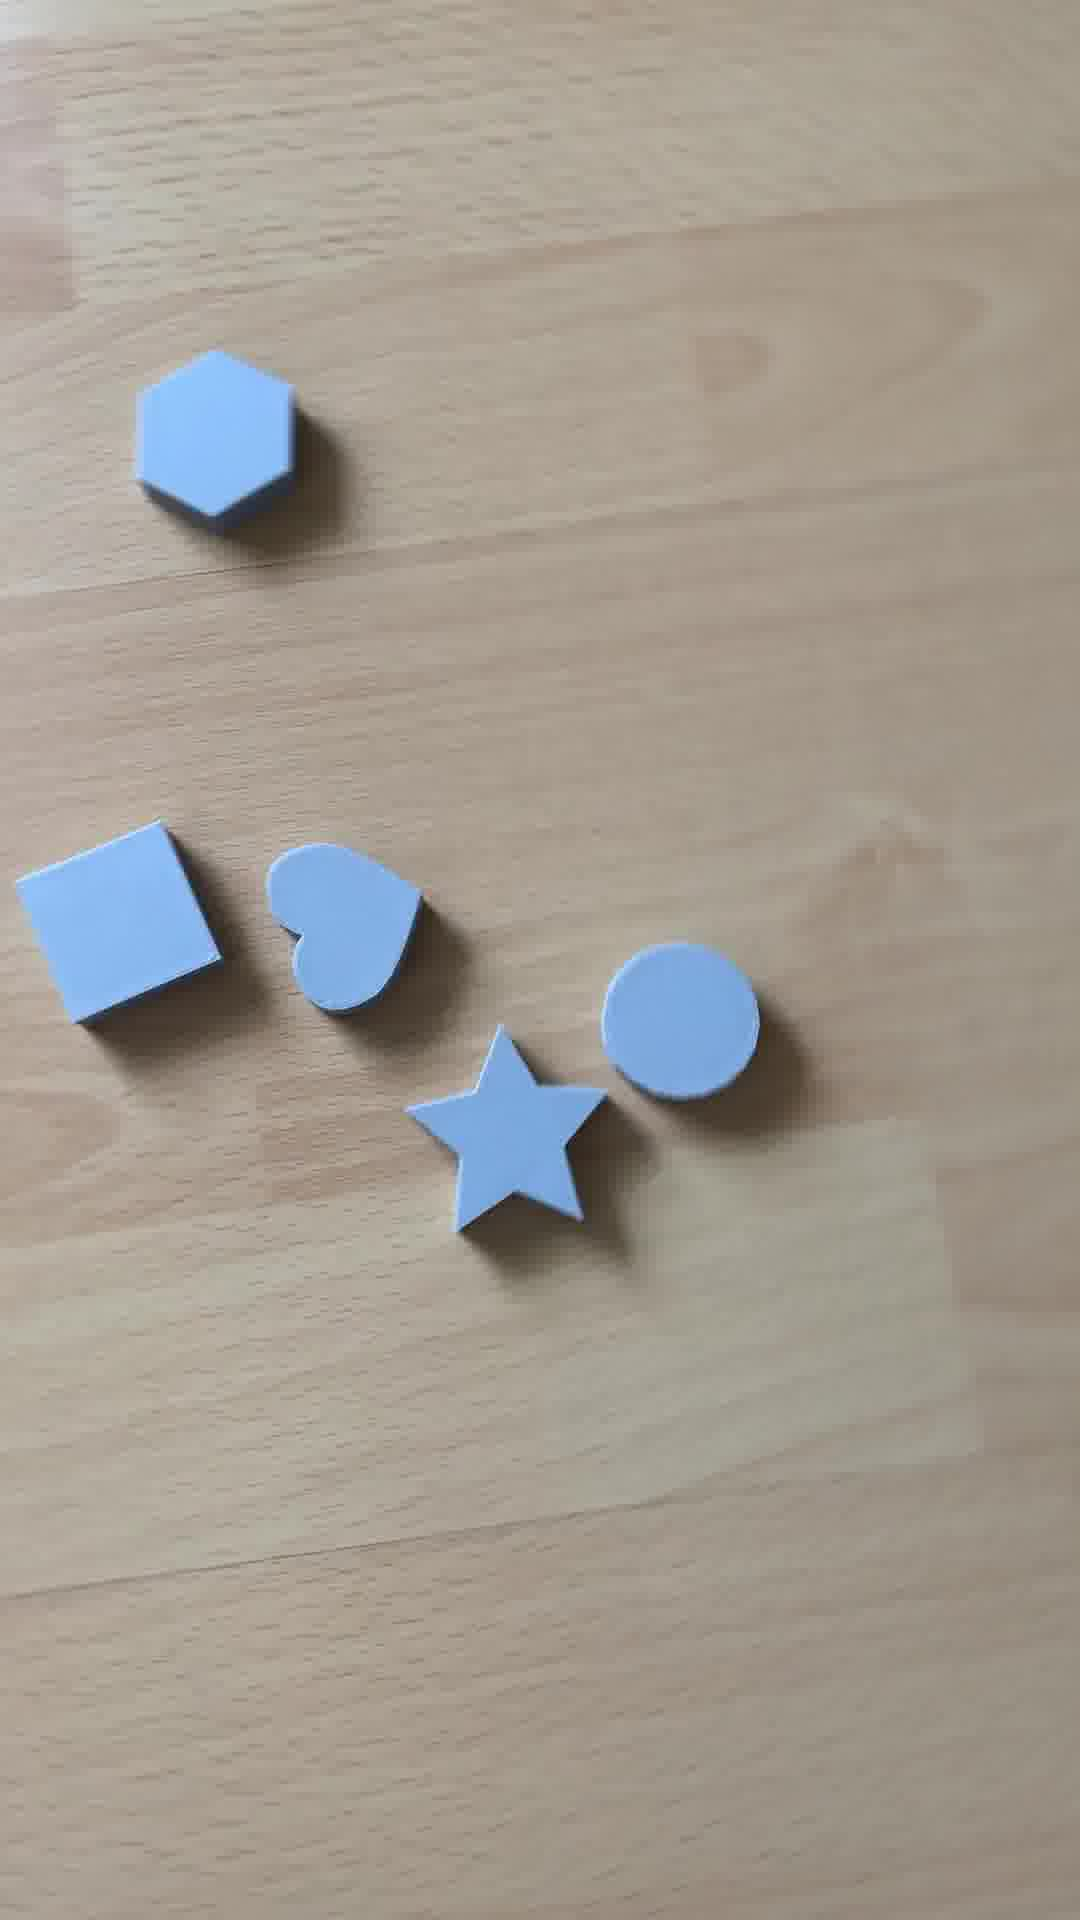Gray circle: (607, 942, 771, 1106)
Gray heart: (257, 840, 430, 1014)
Gray hexagon: (129, 348, 303, 524)
Gray square: (15, 818, 225, 1033)
Gray star: (394, 1026, 622, 1251)
